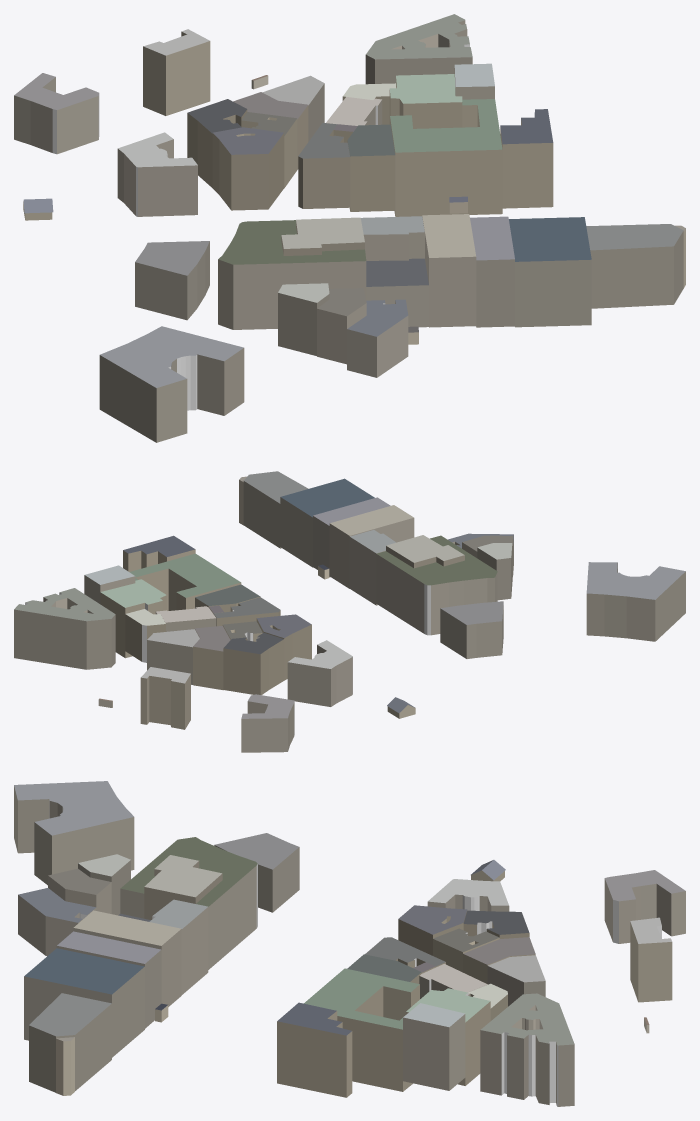
3 renders of one model, top to bottom at view 1: azimuth 30°, elevation 25°; view 2: azimuth 150°, elevation 25°; view 3: azimuth 270°, elevation 25°, orthographic. The views are drawn at different scales.
Parts seen in each view (by area): view 1: tuile; view 2: tuile; view 3: tuile.
Part boxes in pixels (x1=…): tuile: x1=14, y1=14, x2=685, y2=442; tuile: x1=14, y1=471, x2=685, y2=752; tuile: x1=14, y1=781, x2=685, y2=1106.
Size of the model in its own units: 275 by 36.87 by 276.
